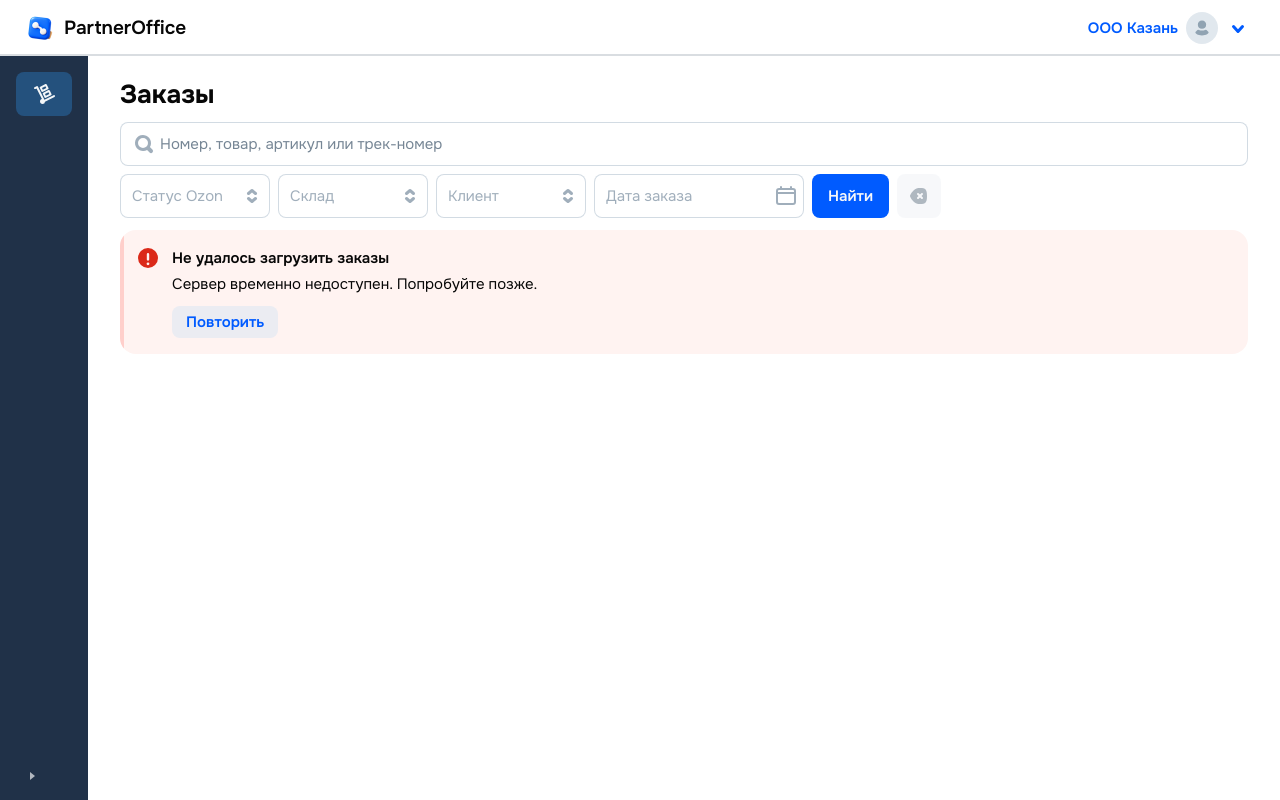
Список заказов › при ошибке загрузки показывает сообщение и «Повторить»
expect the text "Не удалось загрузить заказы" is shown: met, box [172, 248, 389, 268]
What coordinates should you click on to do the following:
click the button "Повторить"
I would click on:
 (225, 322)
Its box is [172, 306, 278, 338].
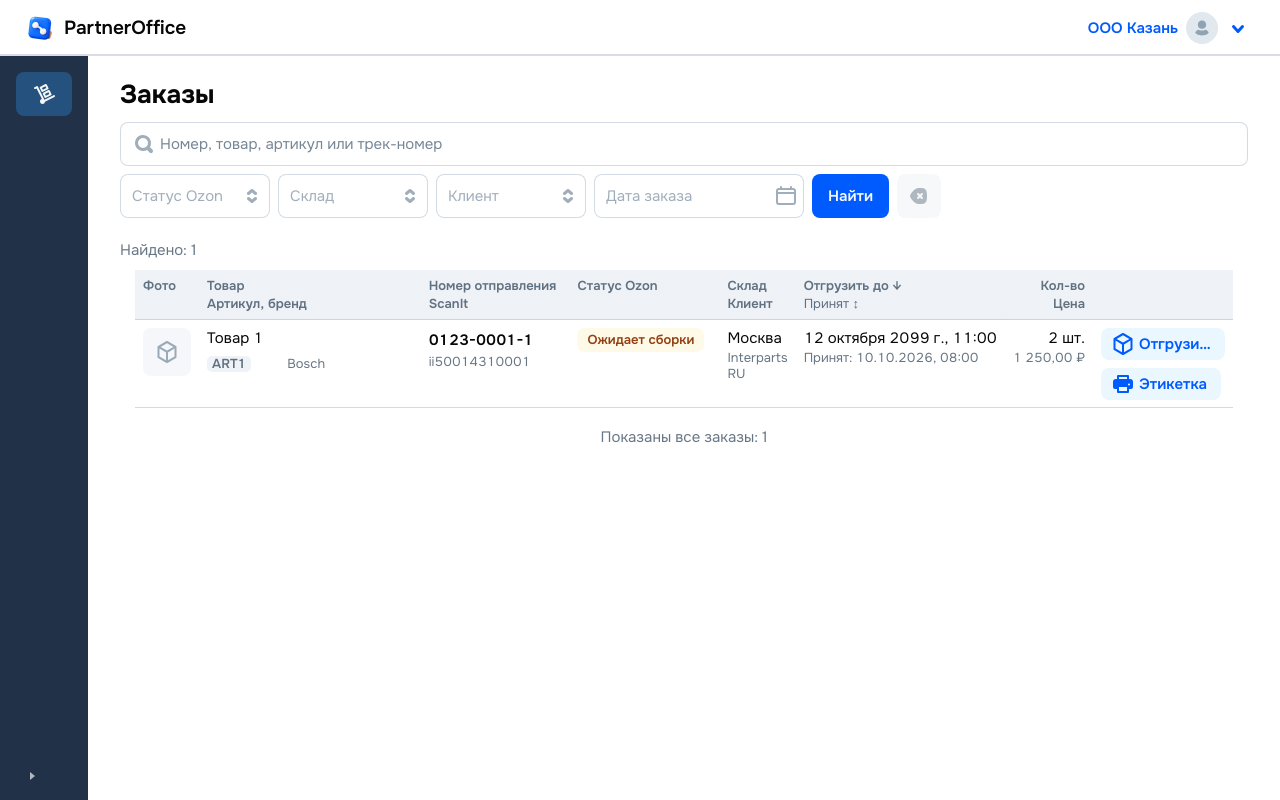
expect the row named "Заказ 0123-0001-1" is shown: met, box [135, 320, 1233, 408]
